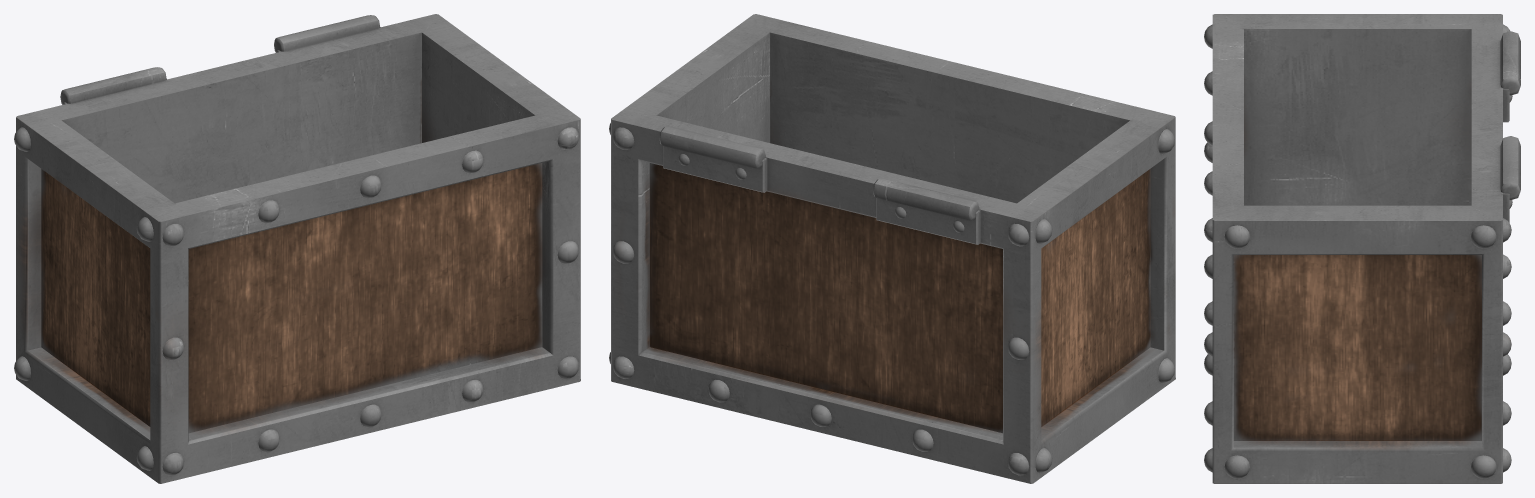
File: magicBox.dae
3 renders of one model, left to right at view 1: azimuth 30°, elevation 25°; view 2: azimuth 150°, elevation 25°; view 3: azimuth 270°, elevation 25°, orthographic.
Visible parts, largest first — view 1: chest1_chestBottom; view 2: chest1_chestBottom; view 3: chest1_chestBottom.
Boxes of the visible parts, <box> form: chest1_chestBottom: <box>14,14,580,483</box>; chest1_chestBottom: <box>609,14,1175,483</box>; chest1_chestBottom: <box>1204,14,1520,483</box>.
Size of the model in its own units: 1.31 by 0.7727 by 0.8128.
1 material, 1 textured.
